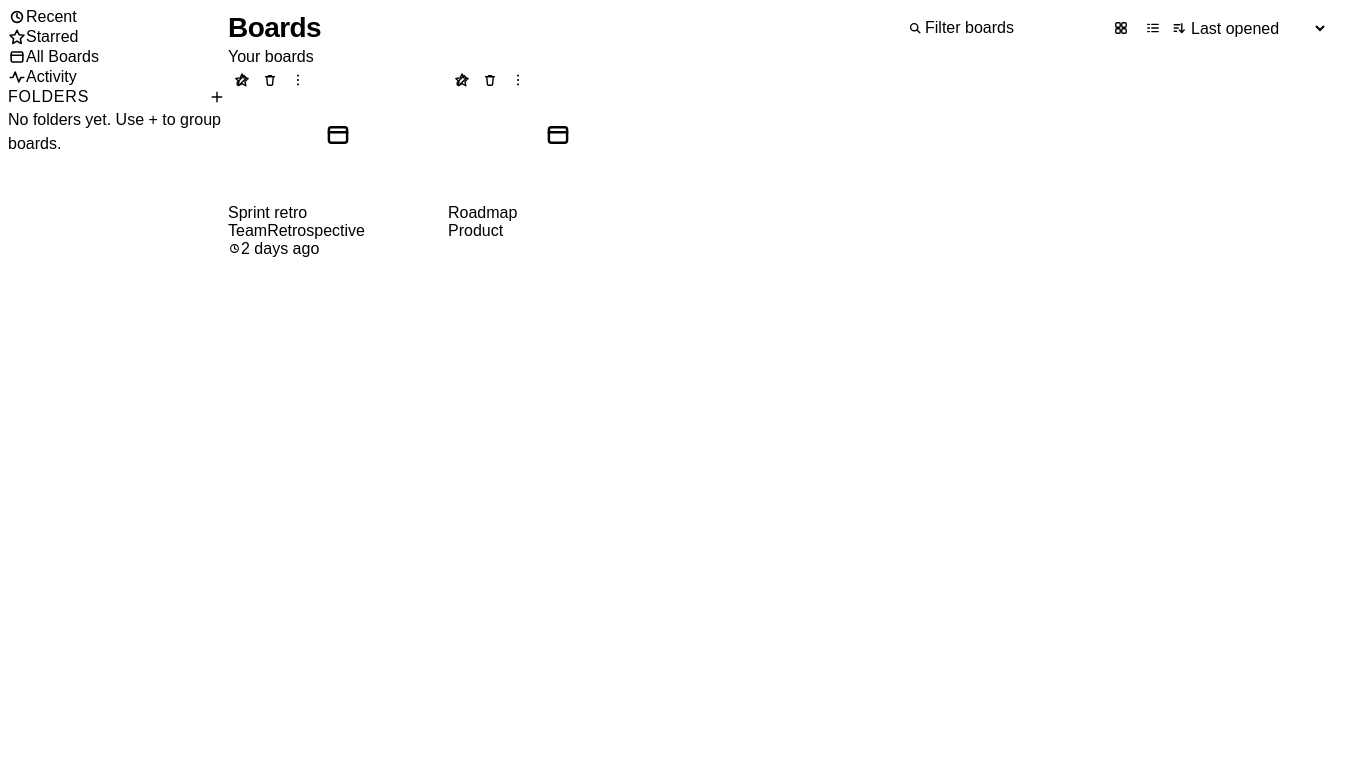
@firo/ui BoardHome › filters by name and by tag
The image size is (1366, 759).
Type "road" into the search field labelled "Filter boards".
click(1013, 28); type("road")  # box x1=923 y1=18 x2=1103 y2=38
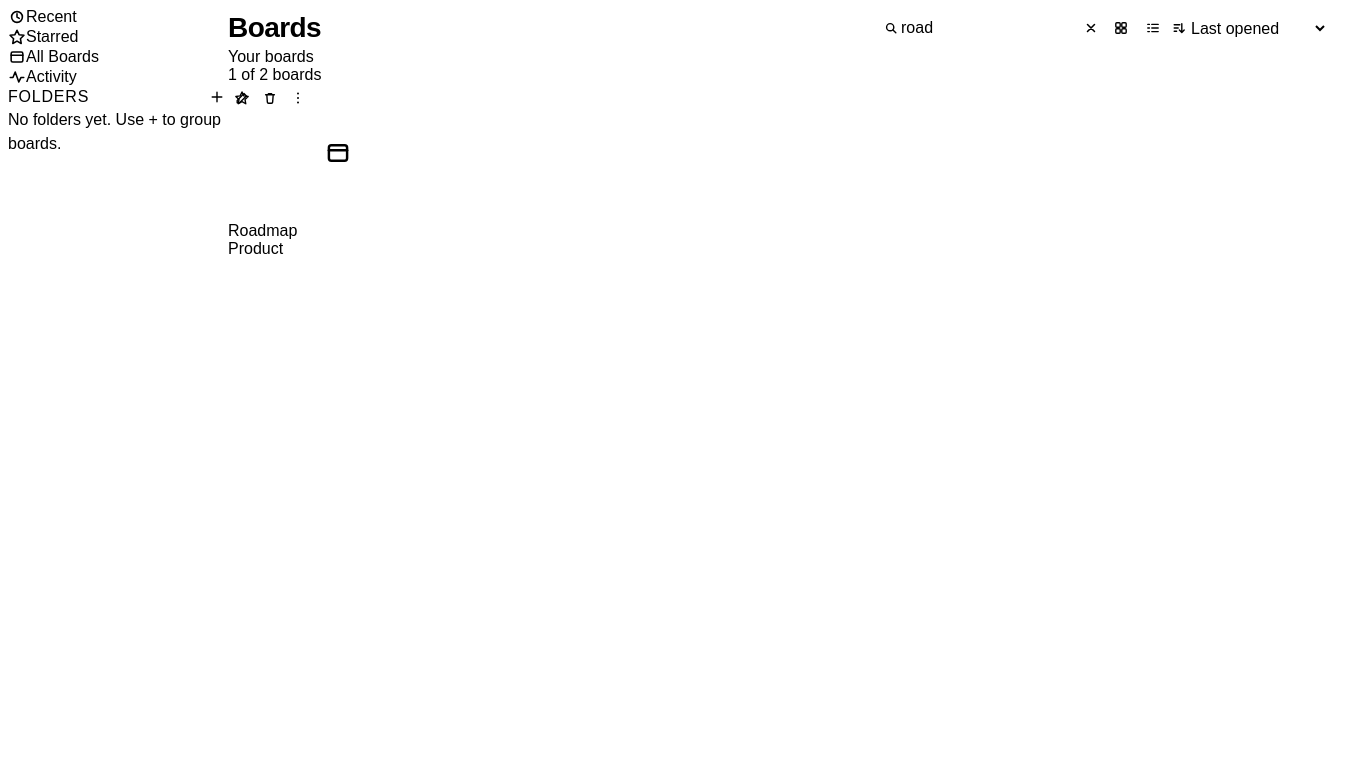
Expected: the text "Roadmap" is shown, x1=228 y1=222 x2=297 y2=238
Expected: the text "Sprint retro" is gone
Note: A tag matches too — the filter is not only a name search.
Replace the text in the search field named "Filter boards" with "retrospective" at [989, 28], box x1=899 y1=18 x2=1079 y2=38
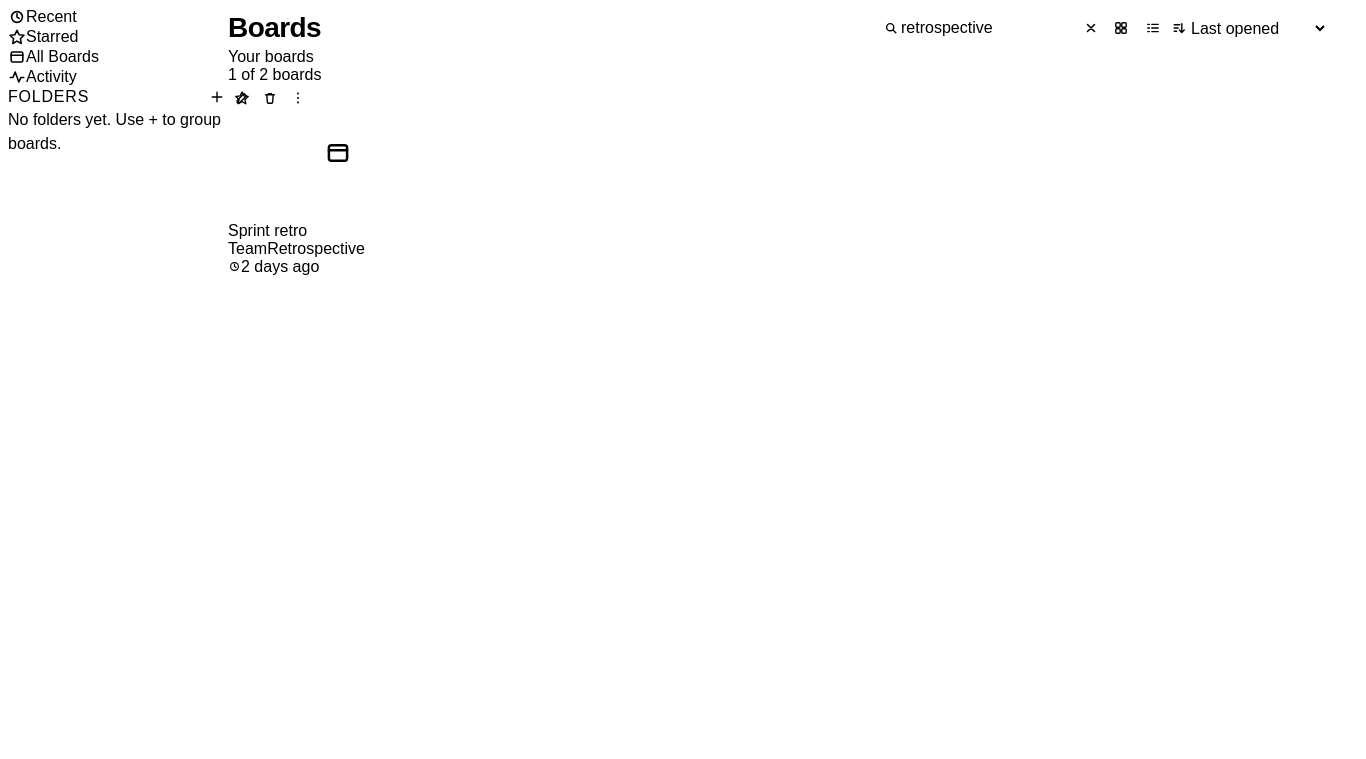
Expected: the text "Sprint retro" is shown, x1=228 y1=222 x2=307 y2=238
Expected: the text "Roadmap" is gone
